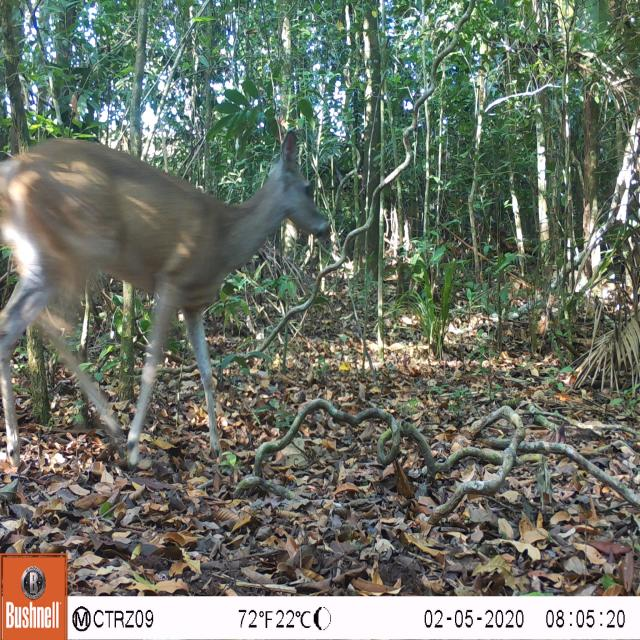White-tailed Deer: (0, 108, 337, 486)
